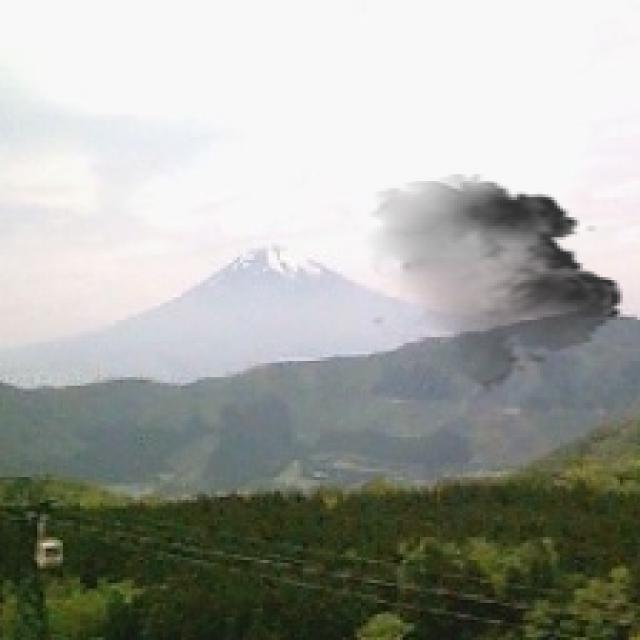smoke: (357, 174, 634, 394)
